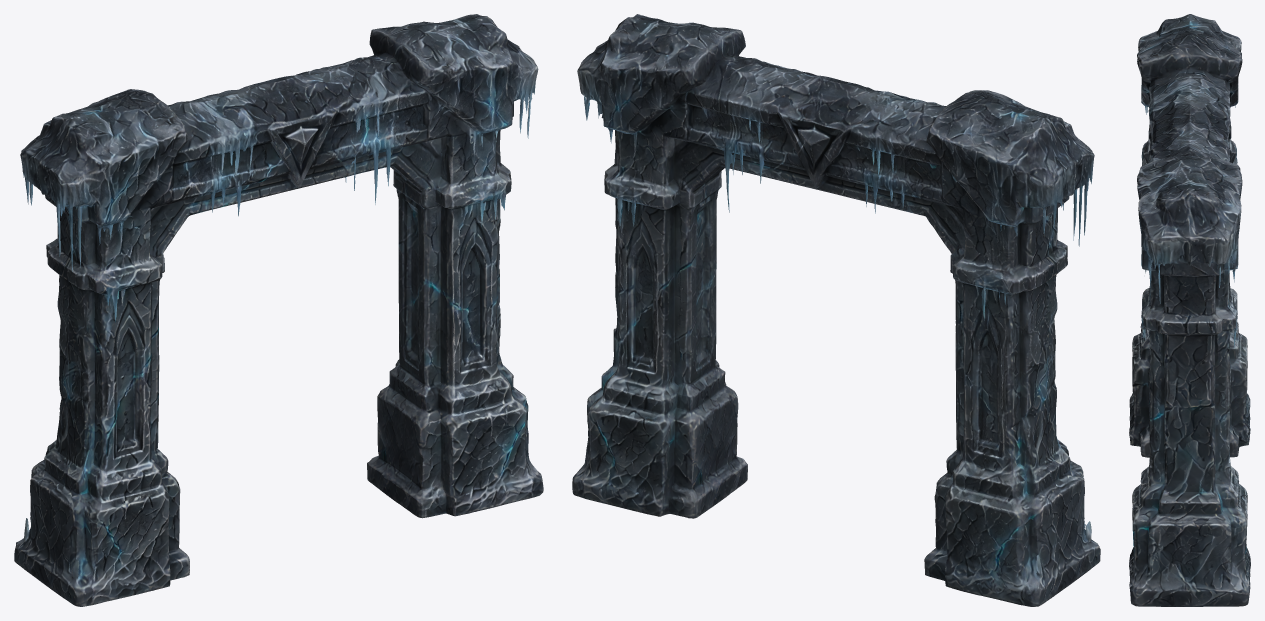
Rendered from Ice_DoorWay.fbx.
The picture shows the model from 3 angles, left to right: view 1: azimuth 30°, elevation 25°; view 2: azimuth 150°, elevation 25°; view 3: azimuth 270°, elevation 25°; orthographic projection. The views are drawn at different scales.
Visible parts, largest first — view 1: model; view 2: model; view 3: model.
Part boxes in pixels (x1,y1,x2,y2): model: (14,14,543,606); model: (572,14,1100,606); model: (1129,14,1250,606).
Size of the model in its own units: 185 by 171 by 46.17.
1 material, 1 textured.
